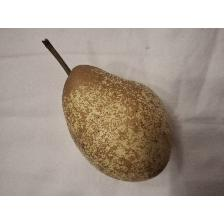Birne: (40, 36, 176, 184)
